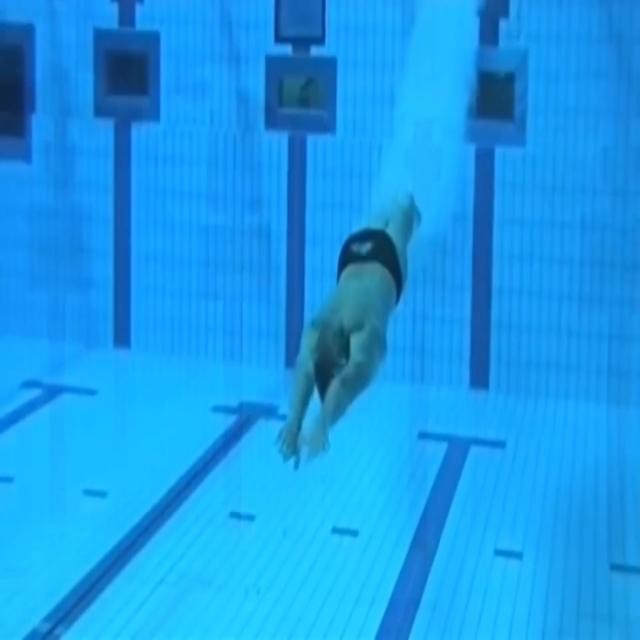Swimming: (276, 192, 421, 472)
